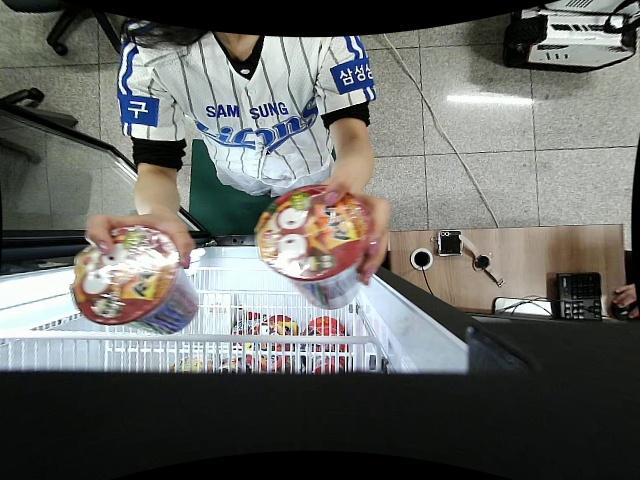00_hand: (323, 175, 391, 287), (85, 209, 195, 271)
06_nuguri_S: (253, 183, 369, 307), (71, 225, 200, 334)
